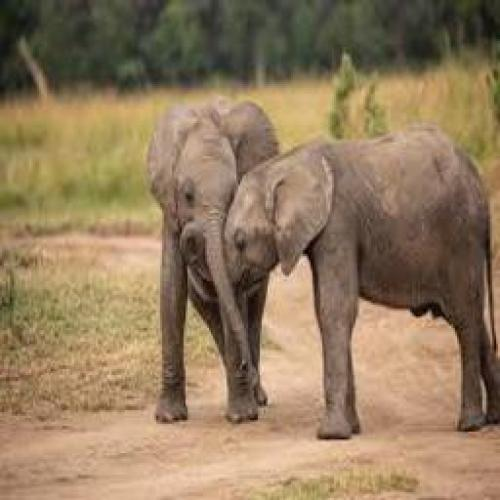african_elephant-endangered: (189, 124, 499, 441), (142, 94, 278, 427)
